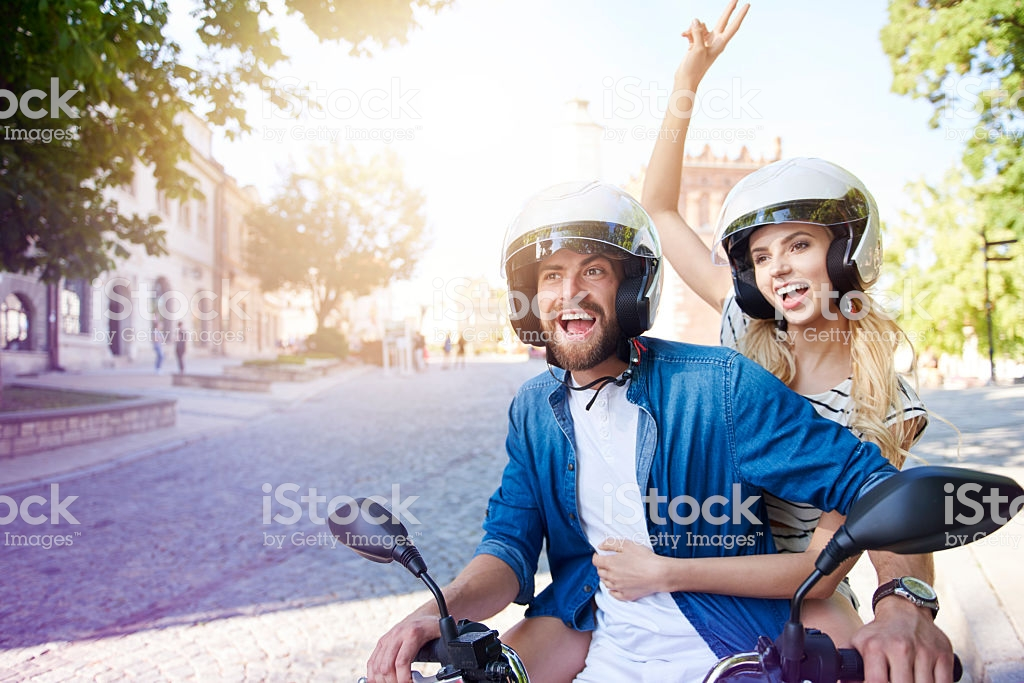helmet: (718, 158, 884, 294), (495, 189, 660, 324)
